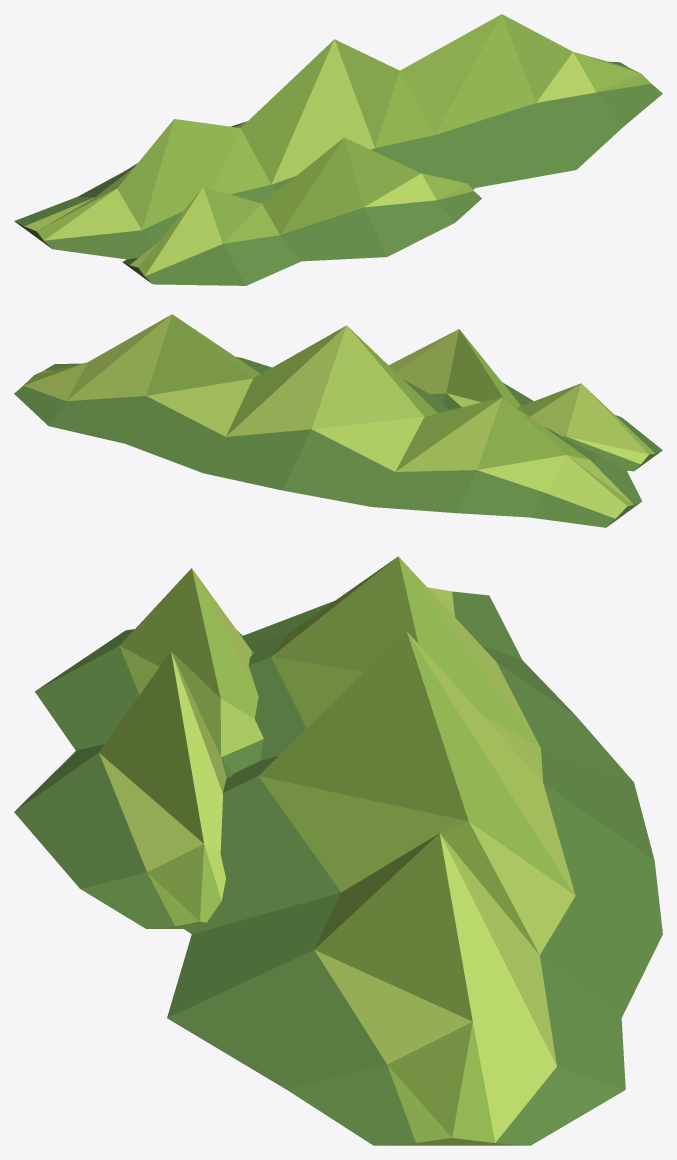
The picture shows the model from 3 angles, top to bottom: view 1: azimuth 30°, elevation 25°; view 2: azimuth 150°, elevation 25°; view 3: azimuth 270°, elevation 25°; orthographic projection. The views are drawn at different scales.
Visible parts, largest first — view 1: 连续折脊_green.001; view 2: 连续折脊_green.001; view 3: 连续折脊_green.001.
Part boxes in pixels (x1,y1,x2,y2): 连续折脊_green.001: (14, 14, 662, 285); 连续折脊_green.001: (14, 314, 662, 527); 连续折脊_green.001: (14, 556, 662, 1145).
Bounding box in the file's own units: 3.15 × 0.6136 × 1.57.
